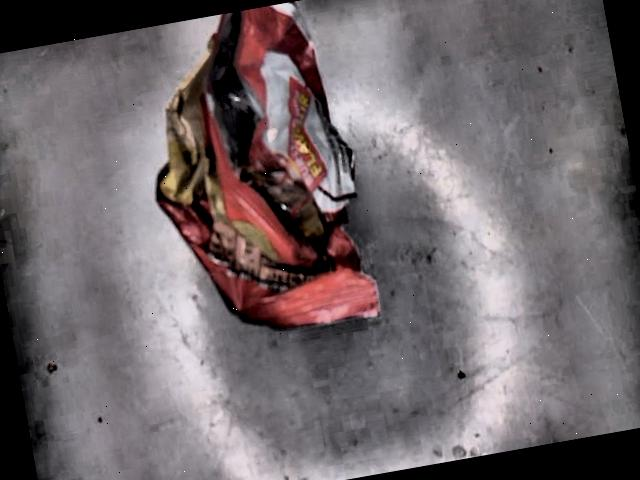Plastic: (154, 1, 380, 327)
